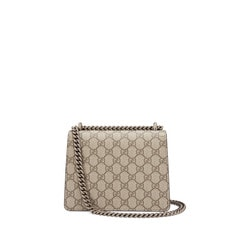Gucci: (56, 111, 176, 217), (85, 138, 159, 203)
